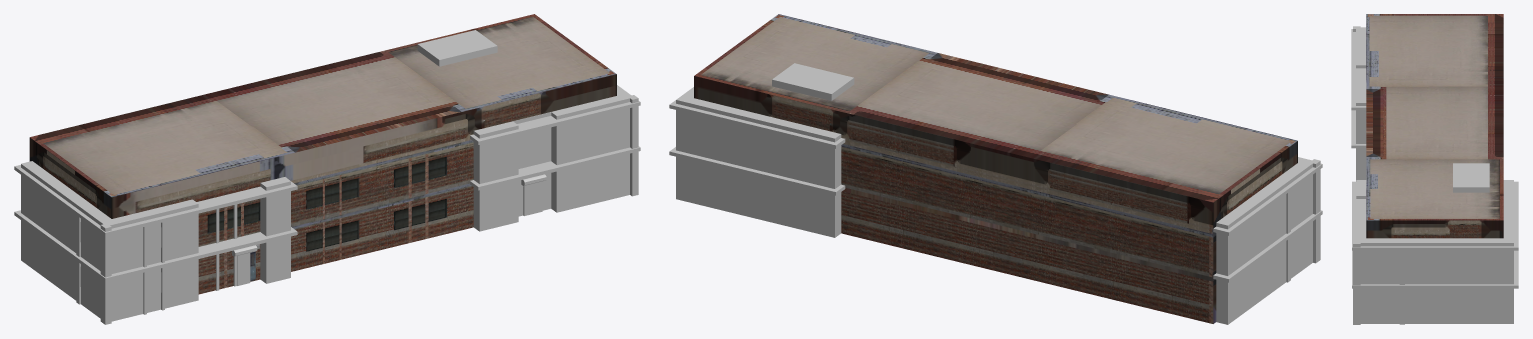
Rendered from dz_industrial_03.fbx.
The picture shows the model from 3 angles, left to right: view 1: azimuth 30°, elevation 25°; view 2: azimuth 150°, elevation 25°; view 3: azimuth 270°, elevation 25°; orthographic projection. The views are drawn at different scales.
Visible parts, largest first — view 1: dz_industrial_03_LOD0; view 2: dz_industrial_03_LOD0; view 3: dz_industrial_03_LOD0.
Part boxes in pixels (<box>): dz_industrial_03_LOD0: <box>14,14,640,324</box>; dz_industrial_03_LOD0: <box>669,14,1322,324</box>; dz_industrial_03_LOD0: <box>1351,14,1518,324</box>.
Size of what is drawn, in the model's own units: 42.08 by 9.38 by 13.59.
